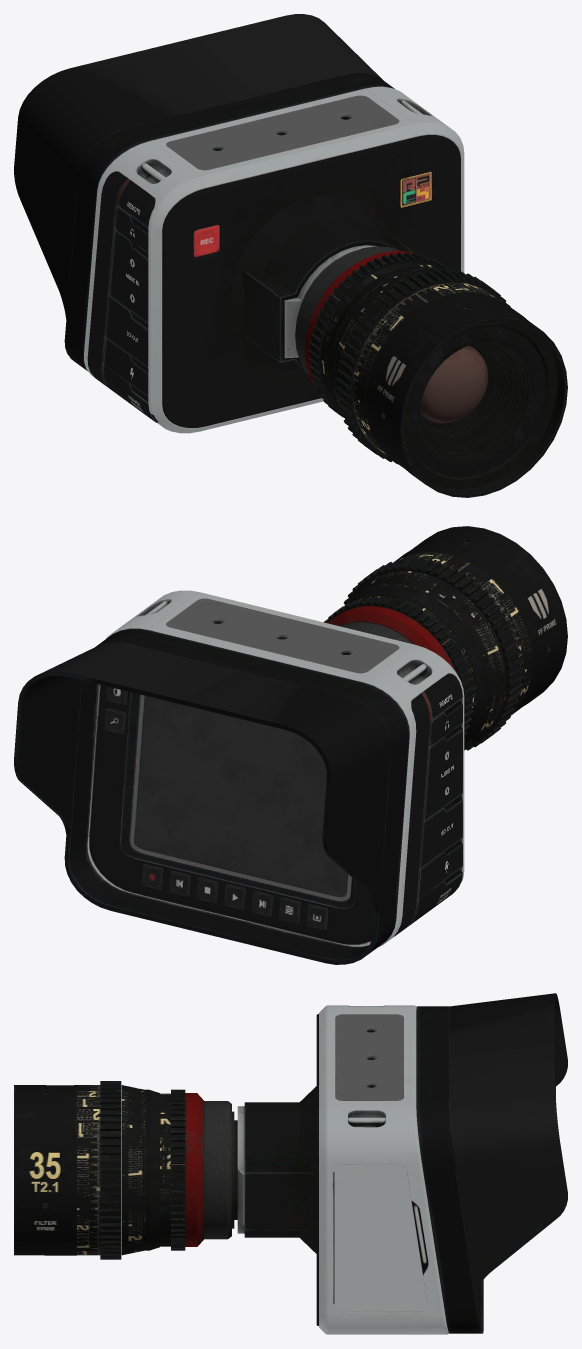
Rendered from camera.glb.
3 views of the same model, one above another, from view 1: azimuth 30°, elevation 25°; view 2: azimuth 150°, elevation 25°; view 3: azimuth 270°, elevation 25° (orthographic). The views are drawn at different scales.
Visible parts, largest first — view 1: Object_6, Object_30, Object_58; view 2: Object_6, Object_58, Object_30; view 3: Object_6, Object_58, Object_30.
Boxes of the visible parts, bbox=[...] form: Object_6: bbox=[84, 86, 464, 433]; Object_30: bbox=[115, 178, 567, 497]; Object_58: bbox=[14, 14, 394, 371]; Object_6: bbox=[87, 590, 464, 946]; Object_58: bbox=[14, 628, 409, 964]; Object_30: bbox=[324, 526, 567, 750]; Object_6: bbox=[244, 1005, 448, 1334]; Object_58: bbox=[416, 993, 567, 1333]; Object_30: bbox=[14, 1081, 244, 1259].
Size of what is drawn, in the model's own units: 0.2437 by 0.2004 by 0.4209.
3 materials, 3 textured.
